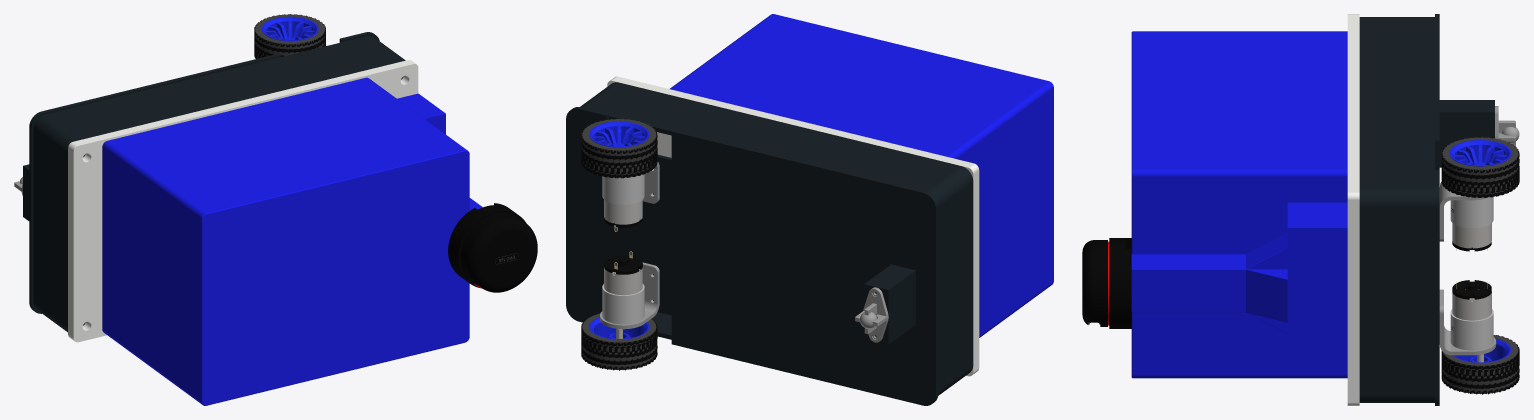
File: Dvx_UGV_v1.0.obj
3 views of the same model, side by side, from view 1: azimuth 30°, elevation 25°; view 2: azimuth 150°, elevation 25°; view 3: azimuth 270°, elevation 25° (orthographic). The views are drawn at different scales.
Parts seen in each view (by area): view 1: Body1:6, first_half+skidplate, lid, second_half+skidplate, Body1:7, Body1:1, Body1:8; view 2: first_half+skidplate, Body1:6, second_half+skidplate, lid, Body1:1, Body1, Body1:2, Body1:3, Body1:4, Body1:9, Body2, Body1:5; view 3: Body1:6, second_half+skidplate, Body1:8, first_half+skidplate, lid, Body1:7, Body1:1, Body1, Body1:2, Body1:3, Body1:4, Body2 (+2 smaller).
Part boxes in pixels (box(x1,y1,x2,y2)): Body1:6: box(102, 77, 469, 405); first_half+skidplate: box(23, 72, 239, 332); lid: box(68, 60, 418, 342); second_half+skidplate: box(204, 32, 405, 100); Body1:7: box(448, 203, 537, 292); Body1:1: box(254, 14, 325, 58); Body1:8: box(397, 93, 482, 210); first_half+skidplate: box(751, 124, 973, 405); Body1:6: box(670, 14, 1053, 337); second_half+skidplate: box(566, 82, 789, 363); lid: box(607, 76, 979, 376); Body1:1: box(581, 118, 657, 178); Body1: box(581, 313, 657, 370); Body1:2: box(602, 267, 644, 338); Body1:3: box(602, 174, 644, 224); Body1:4: box(600, 262, 659, 329); Body1:9: box(855, 287, 888, 342); Body2: box(604, 251, 642, 274); Body1:5: box(642, 162, 659, 203); Body1:6: box(1131, 31, 1347, 378); second_half+skidplate: box(1359, 101, 1439, 405); Body1:8: box(1131, 202, 1347, 374); first_half+skidplate: box(1359, 14, 1494, 167); lid: box(1347, 14, 1359, 405); Body1:7: box(1082, 238, 1131, 328); Body1:1: box(1441, 137, 1519, 197); Body1: box(1441, 335, 1519, 394); Body1:2: box(1450, 289, 1493, 362); Body1:3: box(1450, 197, 1493, 248); Body1:4: box(1439, 289, 1496, 355); Body2: box(1452, 280, 1491, 299).
Size of the model in its own units: 365 by 207 by 364.
